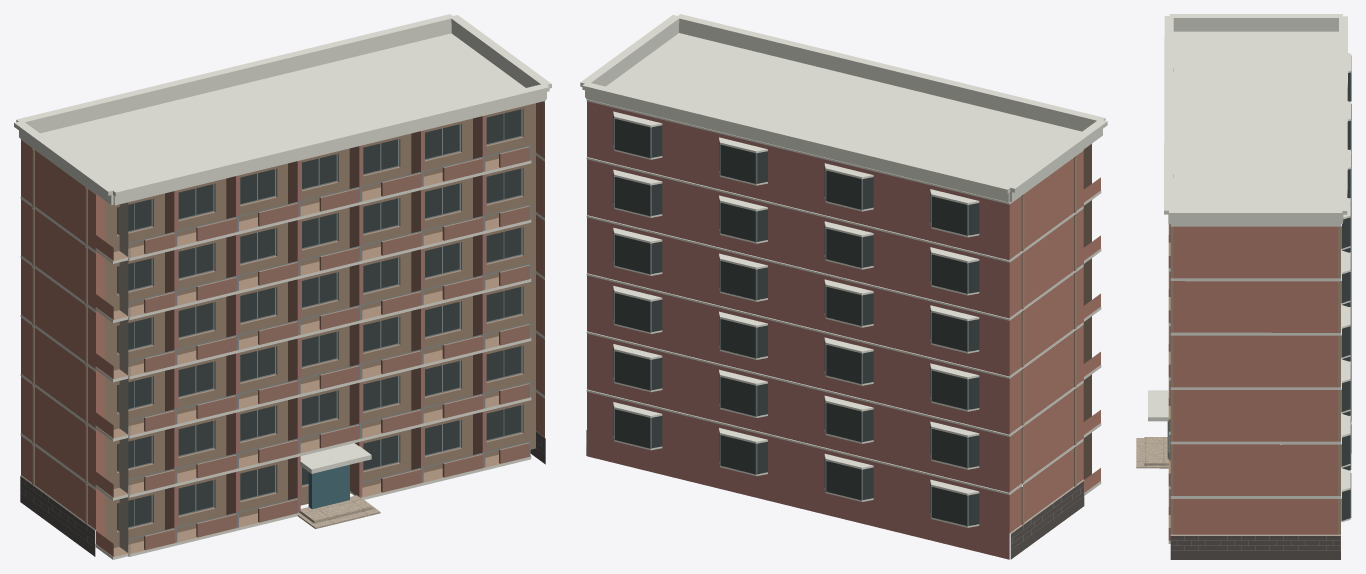
The model's file is chunk-dorm-way-759147063.glb.
3 renders of one model, left to right at view 1: azimuth 30°, elevation 25°; view 2: azimuth 150°, elevation 25°; view 3: azimuth 270°, elevation 25°, orthographic. The views are drawn at different scales.
Parts seen in each view (by area): view 1: chunk-dorm-way-759147063; view 2: chunk-dorm-way-759147063; view 3: chunk-dorm-way-759147063.
Part boxes in pixels (bbox=[...]): chunk-dorm-way-759147063: bbox=[14, 14, 551, 559]; chunk-dorm-way-759147063: bbox=[580, 14, 1107, 559]; chunk-dorm-way-759147063: bbox=[1136, 14, 1351, 559].
Size of the model in its own units: 25.87 by 21.18 by 11.85.
Materials: 13 (1 with a texture image).
